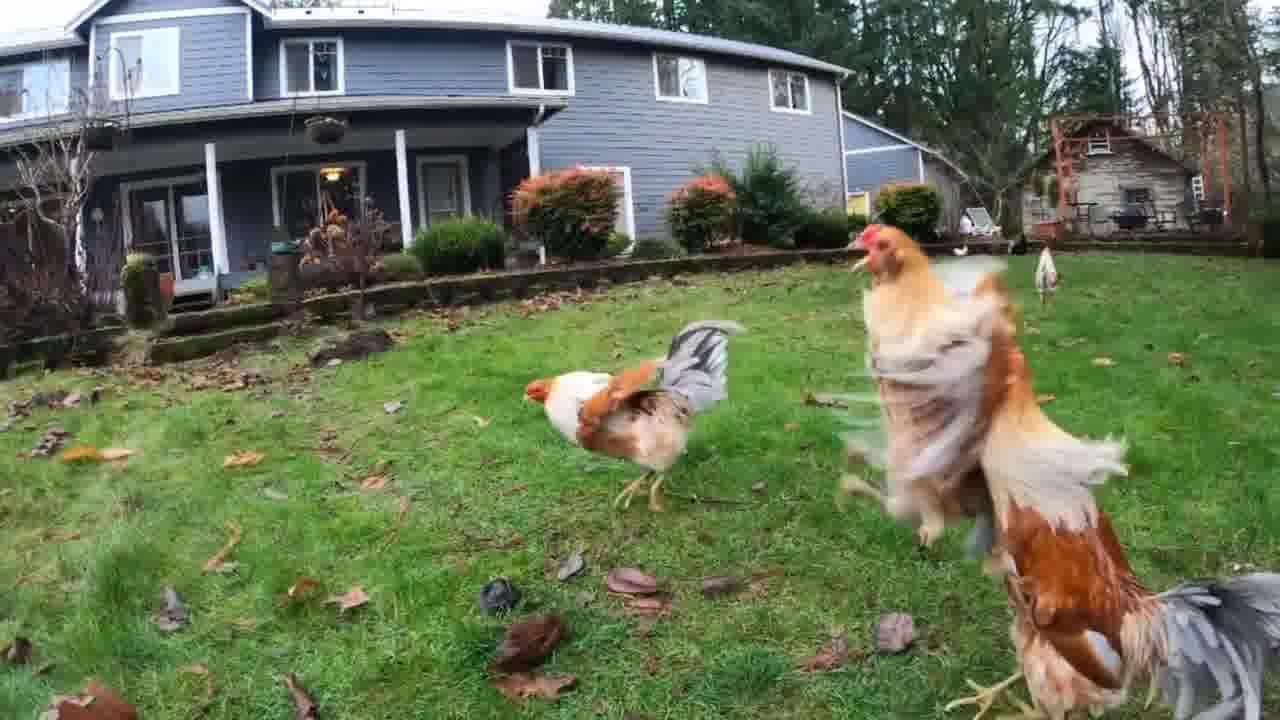Normal: (980, 350, 1280, 716), (820, 194, 1076, 504), (508, 320, 760, 514)
